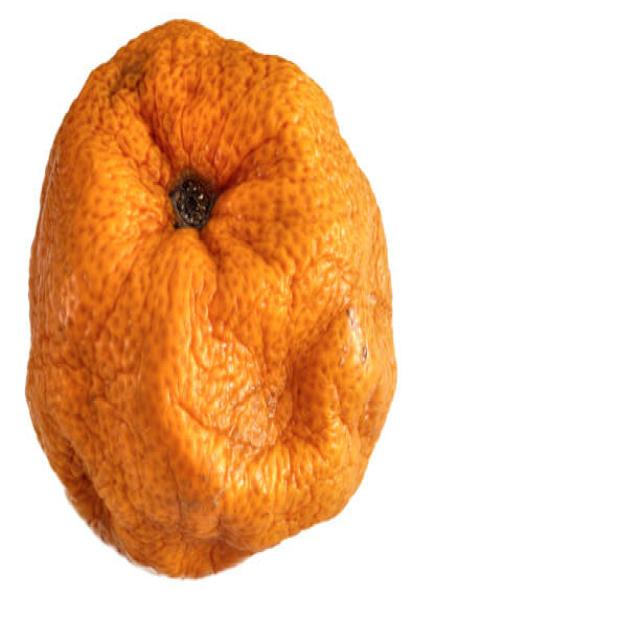overripe: (17, 16, 400, 582)
